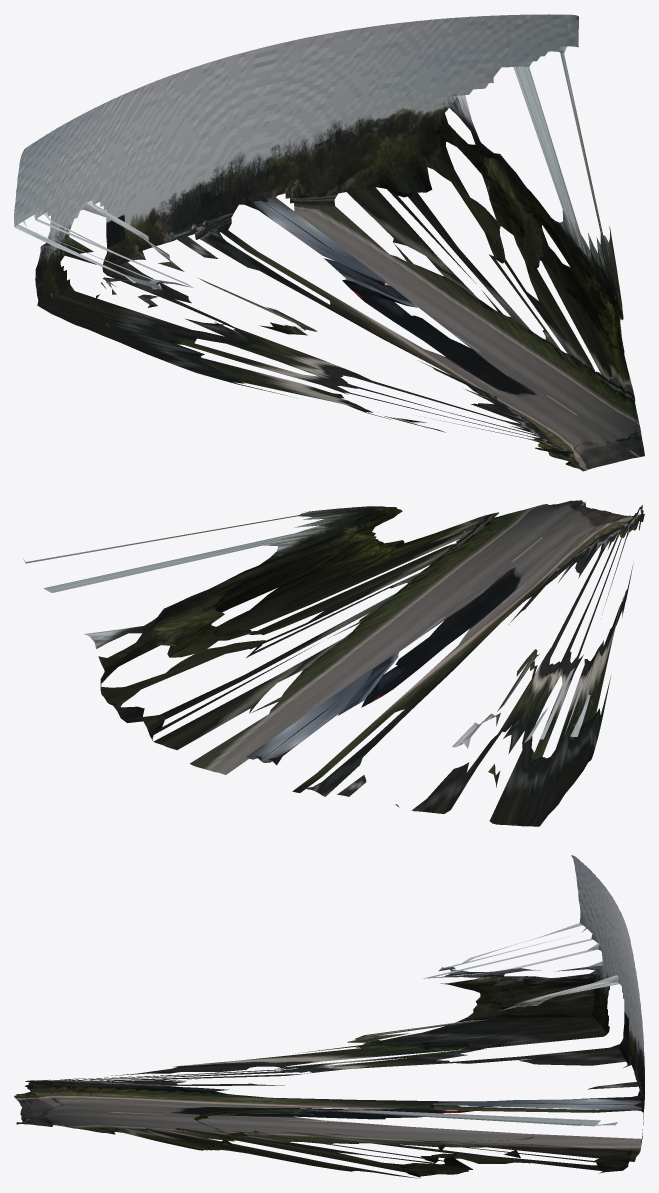
3 views of the same model, one above another, from view 1: azimuth 30°, elevation 25°; view 2: azimuth 150°, elevation 25°; view 3: azimuth 270°, elevation 25° (orthographic). The views are drawn at different scales.
Visible parts, largest first — view 1: defaultobject; view 2: defaultobject; view 3: defaultobject.
Boxes of the visible parts, bbox=[...] form: defaultobject: bbox=[14, 14, 644, 471]; defaultobject: bbox=[23, 500, 644, 826]; defaultobject: bbox=[14, 855, 644, 1178].
Bounding box in the file's own units: 40.95 × 13.02 × 44.72.
Materials: 1 (1 with a texture image).
